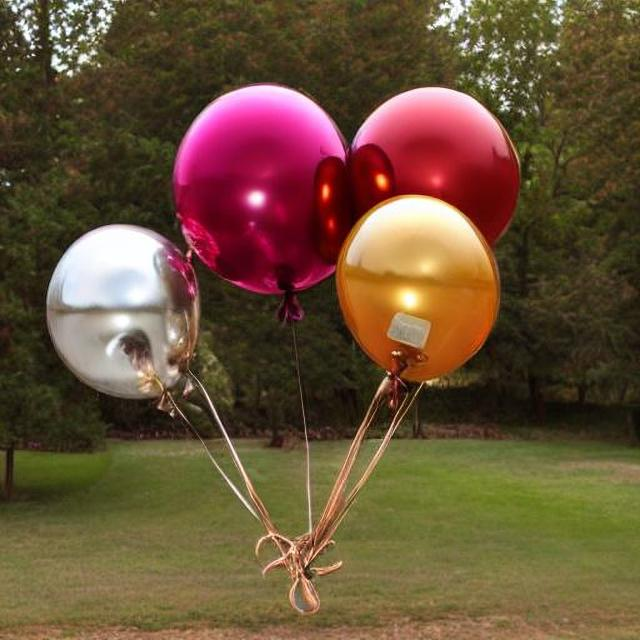balloon: (160, 78, 516, 383), (163, 80, 357, 309), (31, 192, 177, 449)
